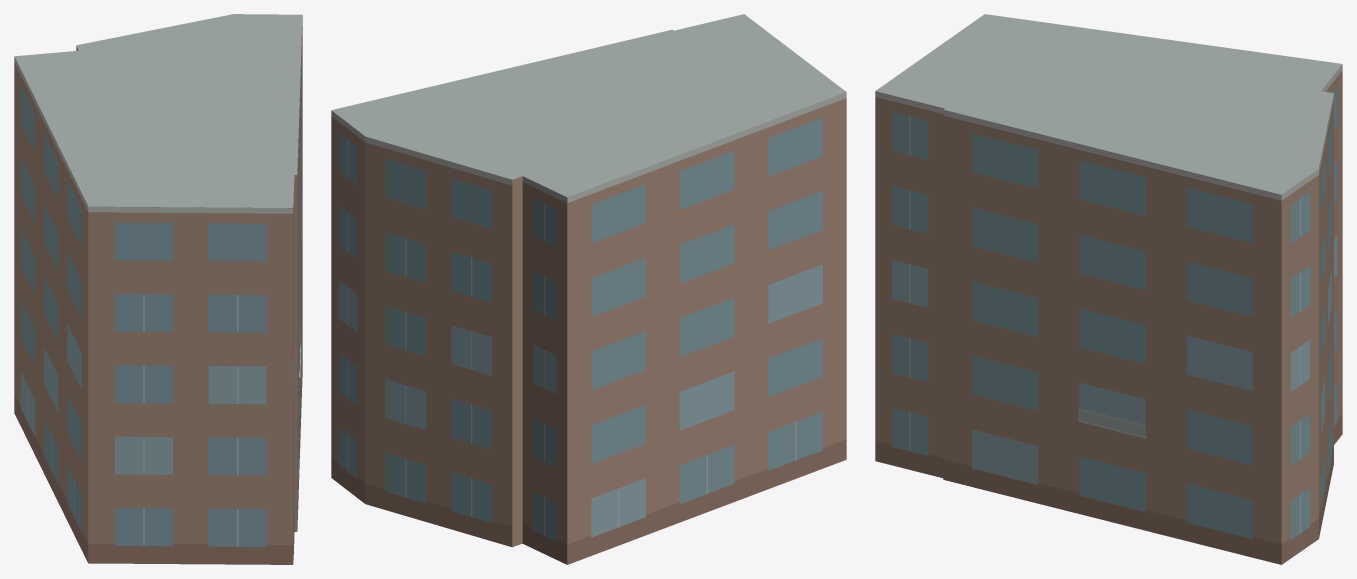
File: survey-upis-32737240.glb
The picture shows the model from 3 angles, left to right: view 1: azimuth 30°, elevation 25°; view 2: azimuth 150°, elevation 25°; view 3: azimuth 270°, elevation 25°; orthographic projection. The views are drawn at different scales.
Visible parts, largest first — view 1: survey-upis-32737240.tmp; view 2: survey-upis-32737240.tmp; view 3: survey-upis-32737240.tmp.
Part boxes in pixels (x1,y1,x2,y2): survey-upis-32737240.tmp: (14,14,302,564); survey-upis-32737240.tmp: (331,14,846,564); survey-upis-32737240.tmp: (875,14,1342,564).
Size of the model in its own units: 16.04 by 15.3 by 17.52.
